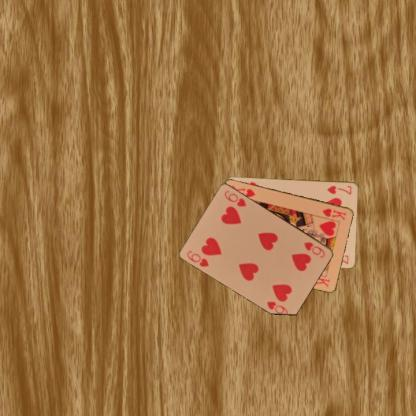6h: (184, 248, 210, 268), (302, 239, 326, 259)
7h: (324, 182, 354, 196)
Kh: (320, 206, 347, 222)
